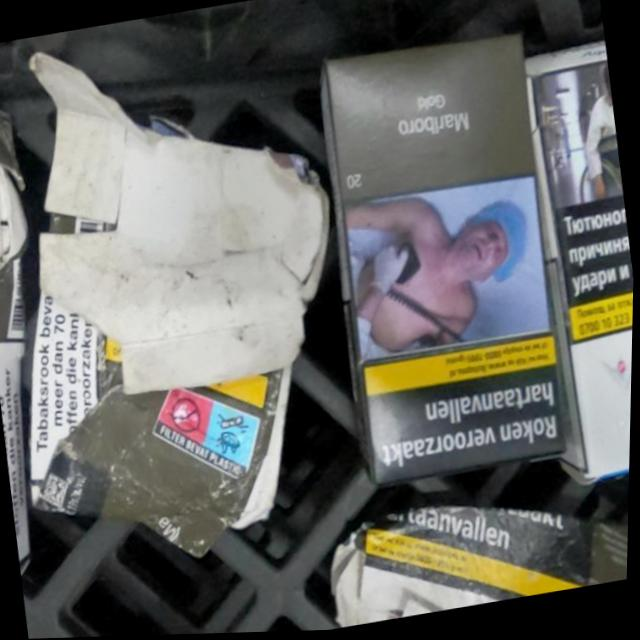Paper: (0, 2, 378, 589), (301, 23, 583, 497), (501, 36, 639, 494), (318, 461, 632, 631), (0, 72, 83, 587)
